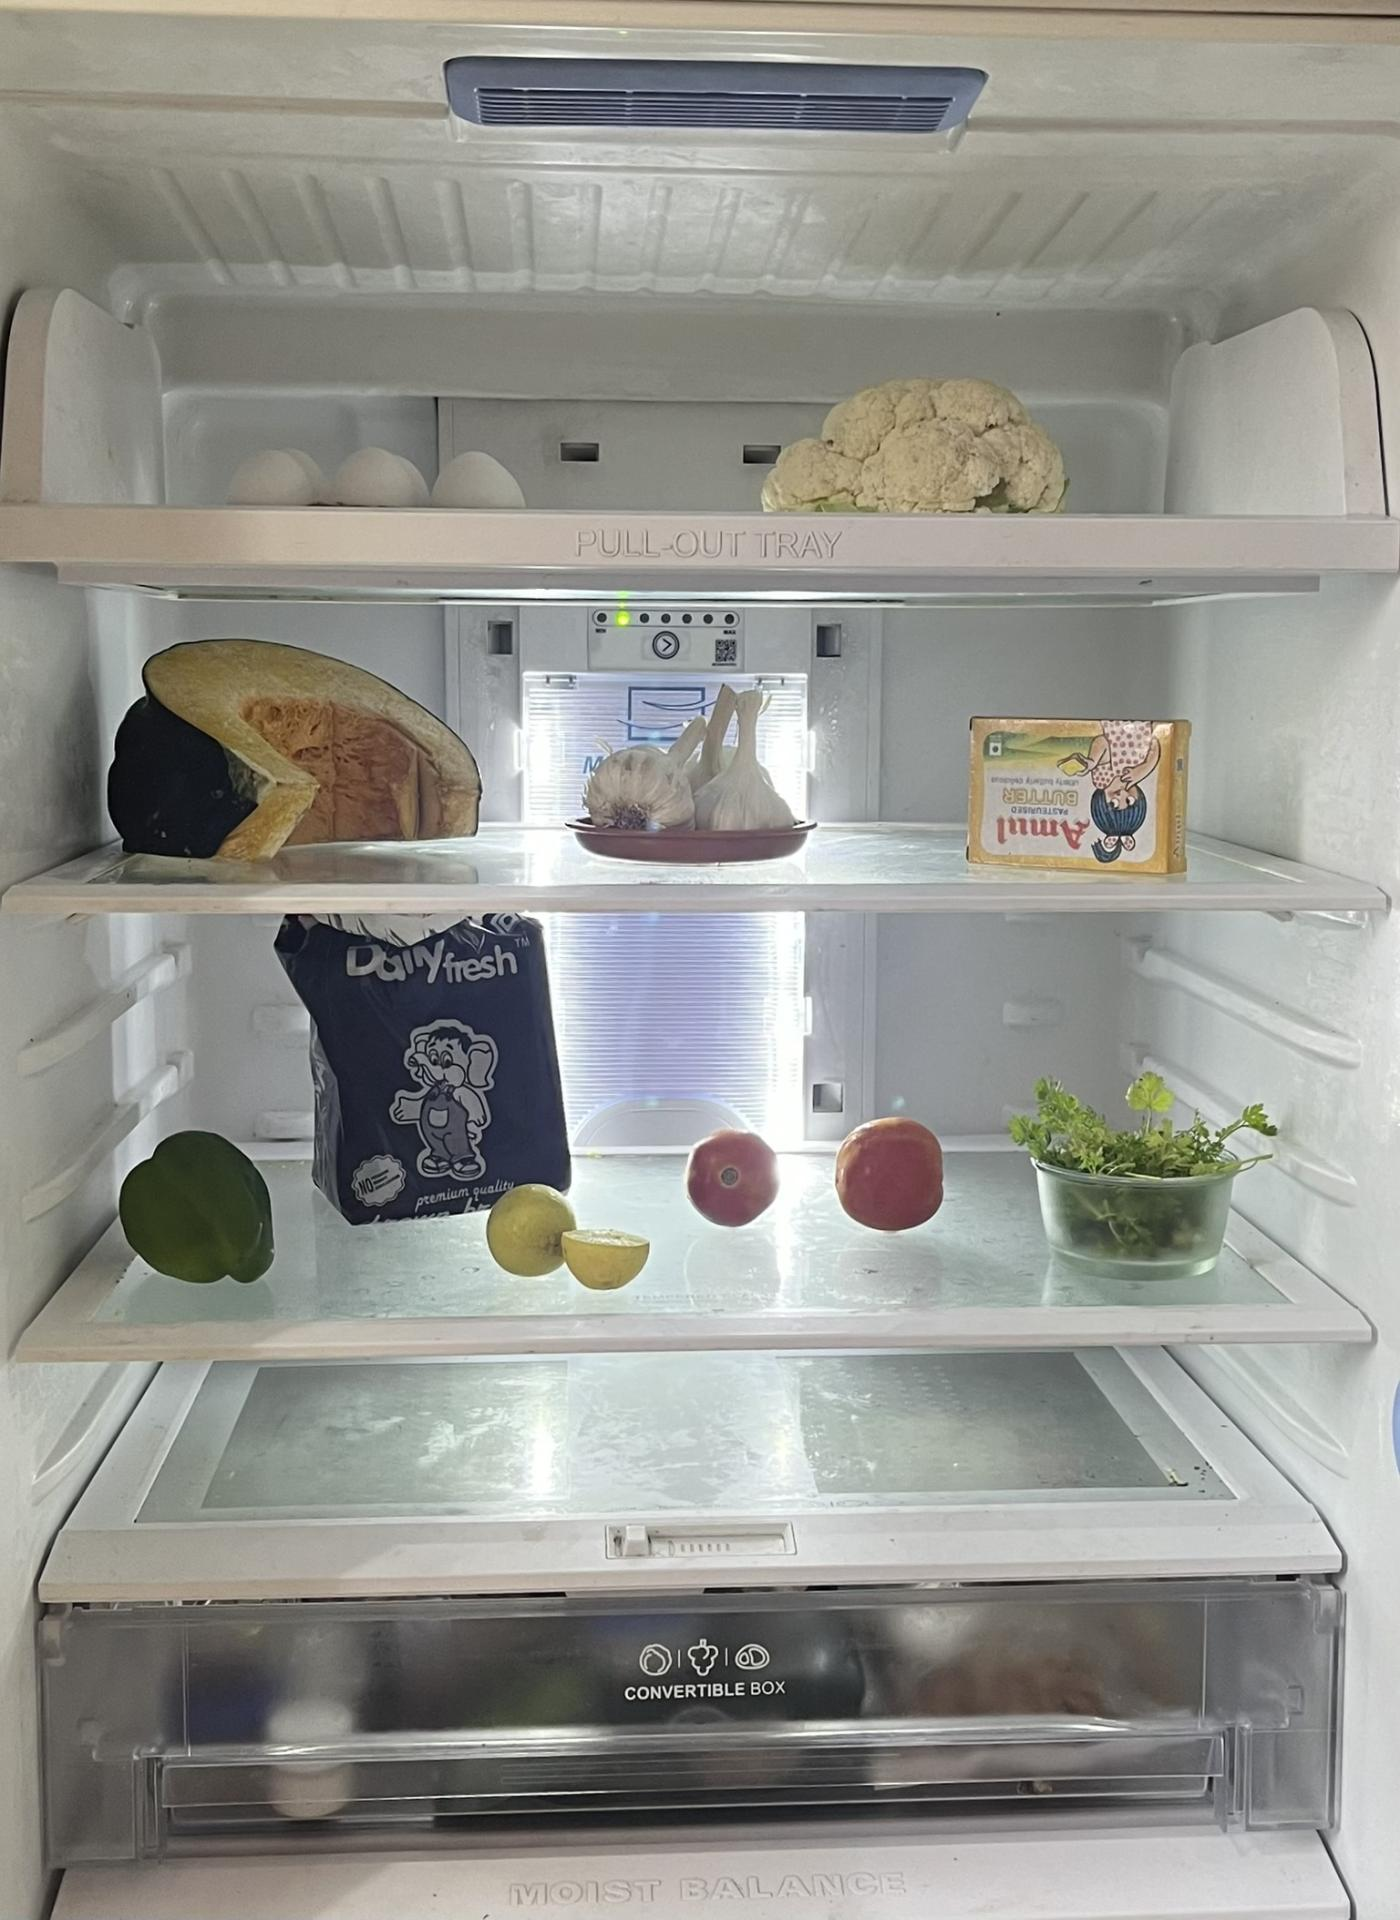bread: (264, 909, 595, 1231)
butter: (966, 713, 1194, 875)
capsicum: (118, 1131, 292, 1288)
coriander: (1012, 1057, 1270, 1269)
egg: (222, 438, 541, 507)
lemon: (477, 1181, 668, 1300)
pumpkin: (109, 628, 483, 859), (765, 350, 1087, 513), (571, 684, 814, 850)
tomato: (829, 1112, 957, 1231), (684, 1131, 790, 1237)
